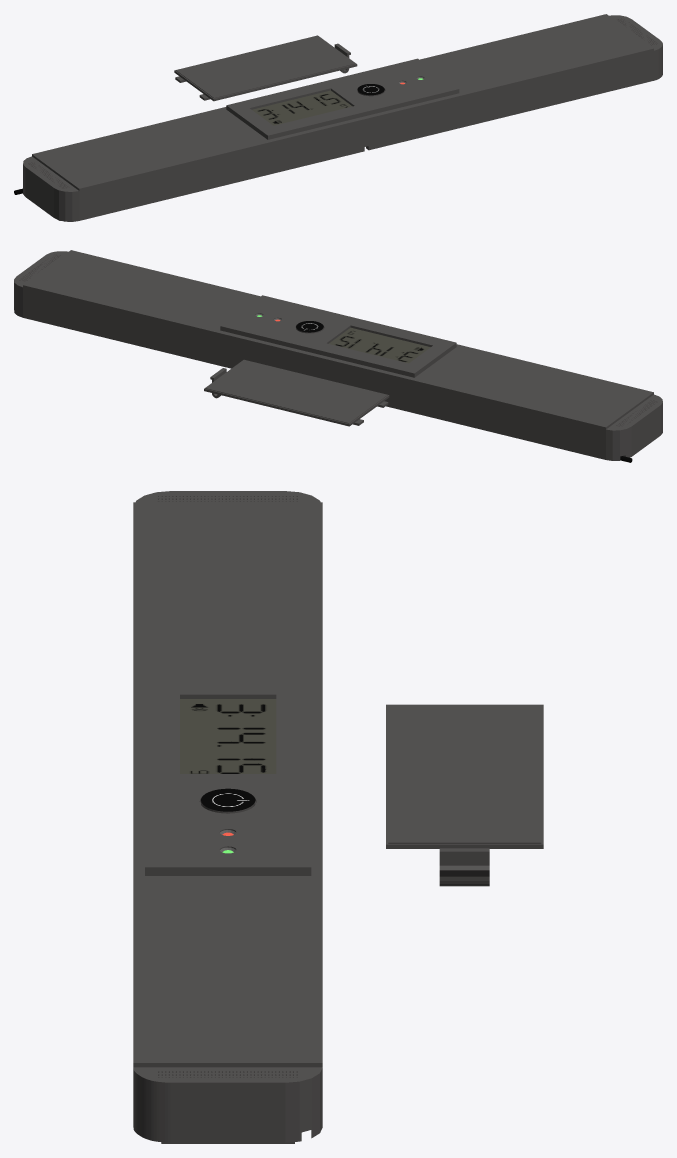
The model's file is timer.glb.
The picture shows the model from 3 angles, top to bottom: view 1: azimuth 30°, elevation 25°; view 2: azimuth 150°, elevation 25°; view 3: azimuth 270°, elevation 25°; orthographic projection. The views are drawn at different scales.
Parts seen in each view (by area): view 1: Timer, Battery Cover; view 2: Timer, Battery Cover; view 3: Timer, Battery Cover.
Boxes of the visible parts, x1,y1,x2,y2 form: Timer: [23, 14, 662, 221]; Battery Cover: [174, 35, 357, 101]; Timer: [14, 250, 662, 460]; Battery Cover: [204, 359, 389, 426]; Timer: [133, 491, 322, 1143]; Battery Cover: [386, 704, 543, 886].
Bounding box in the file's own units: 0.2982 × 0.0183 × 0.0866.
Materials: 11 (3 with a texture image).
